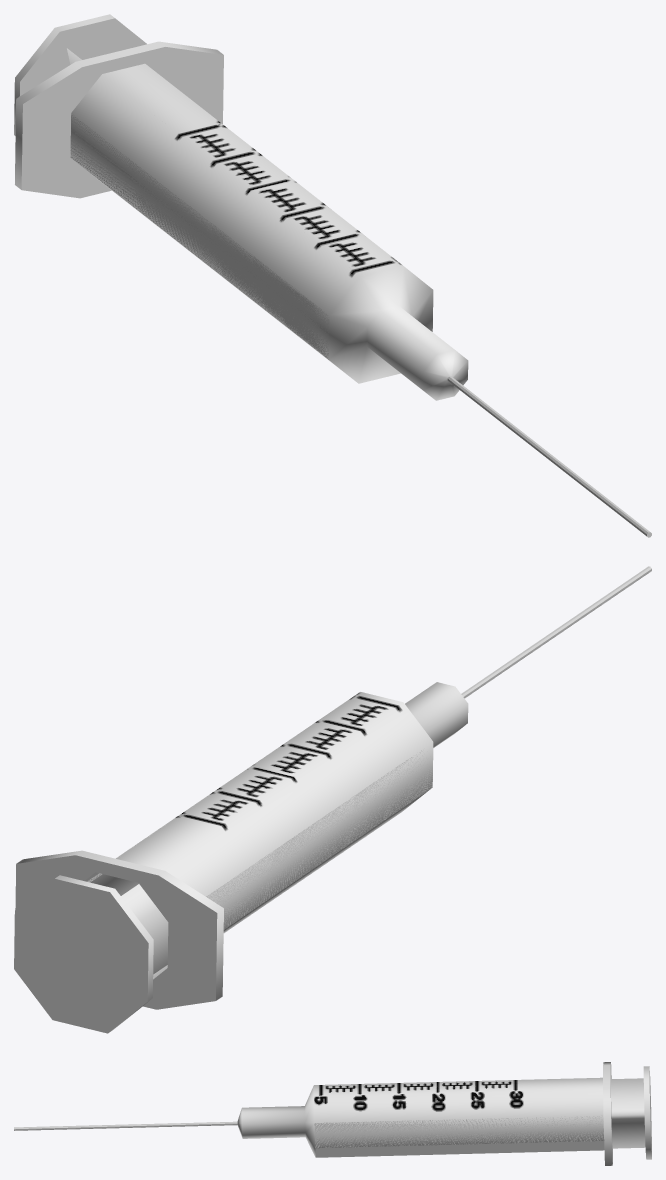
The model's file is needle.fbx.
3 views of the same model, one above another, from view 1: azimuth 30°, elevation 25°; view 2: azimuth 150°, elevation 25°; view 3: azimuth 270°, elevation 25° (orthographic). The views are drawn at different scales.
Parts seen in each view (by area): view 1: needle; view 2: needle; view 3: needle.
Part boxes in pixels (<box>): needle: <box>14,14,651,537</box>; needle: <box>14,566,651,1033</box>; needle: <box>14,1062,651,1165</box>.
Size of the model in its own units: 0.1022 by 0.0681 by 0.5013.
